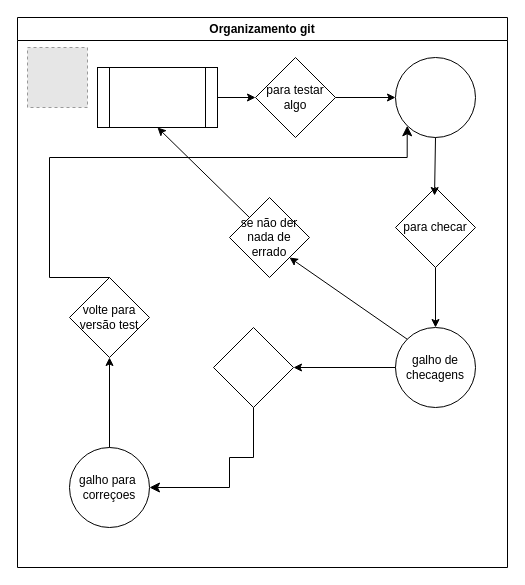
Some shapes in this 525 by 585 pixel diagram are drawn without their labels. Grey dashed boxes stand in for pictures. The shapes that lost their labels are listed below. From the top down, each one's centre as x and y in pixels, then its label:
At [157,97]: "galho pricipal".
At [435,97]: "galho de tetstes".
At [253,367]: "se algo der de errado".
